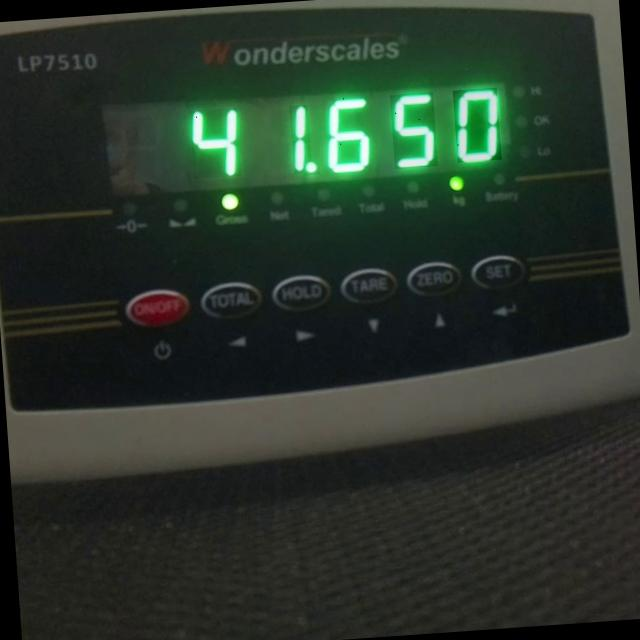.: (303, 161, 320, 176)
0: (452, 87, 502, 162)
1: (289, 104, 312, 174)
4: (189, 108, 241, 178)
5: (390, 92, 438, 168)
6: (322, 95, 372, 174)
